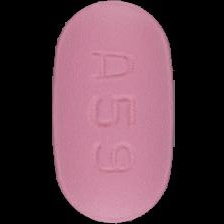53808-0756: (0, 0, 224, 224)
